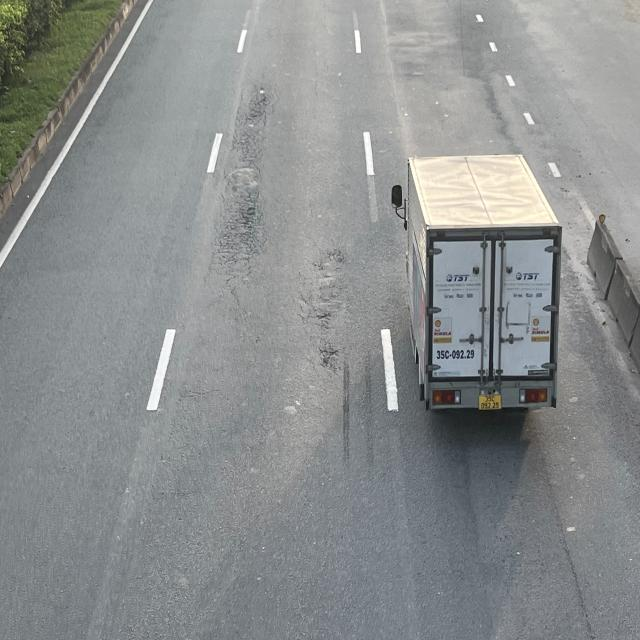truck: (390, 154, 564, 415)
